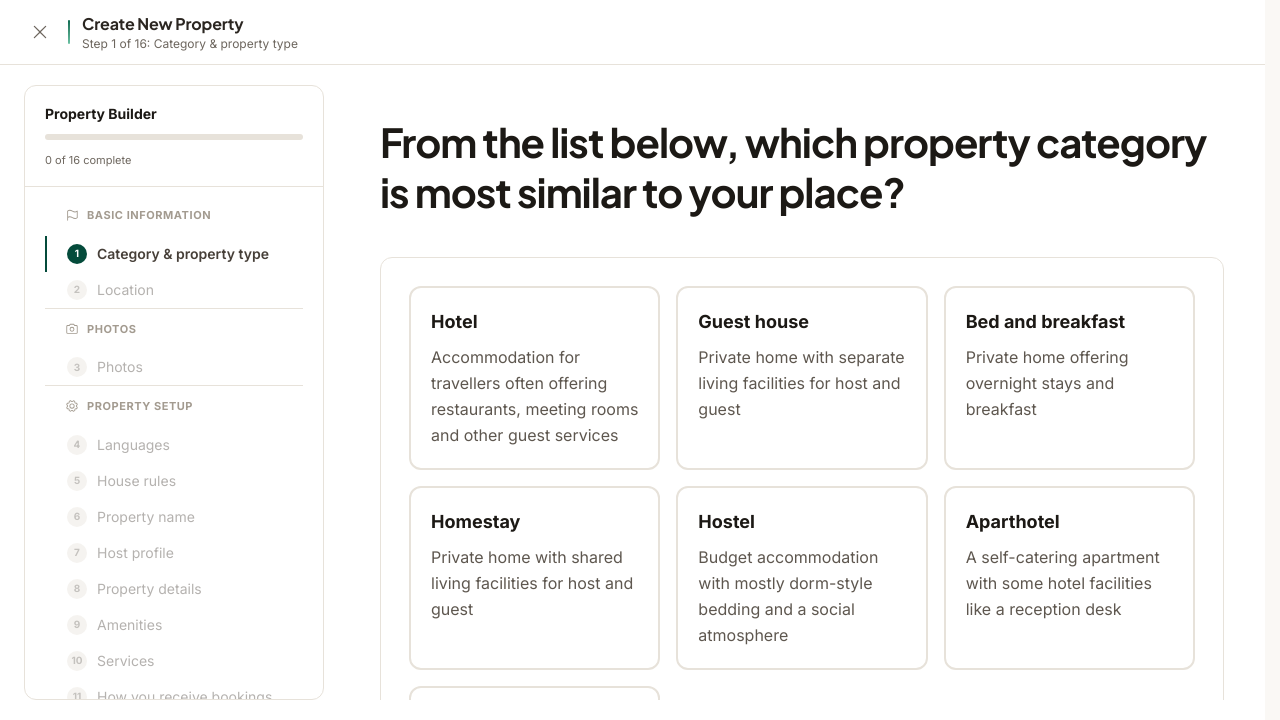
Test: PropertyHotelCategoryPage — the full category list › hands the chosen category to the how-many screen without creating a draft
Click the text "Hostel": (727, 522) [698,511,755,532]
(page scrolled)
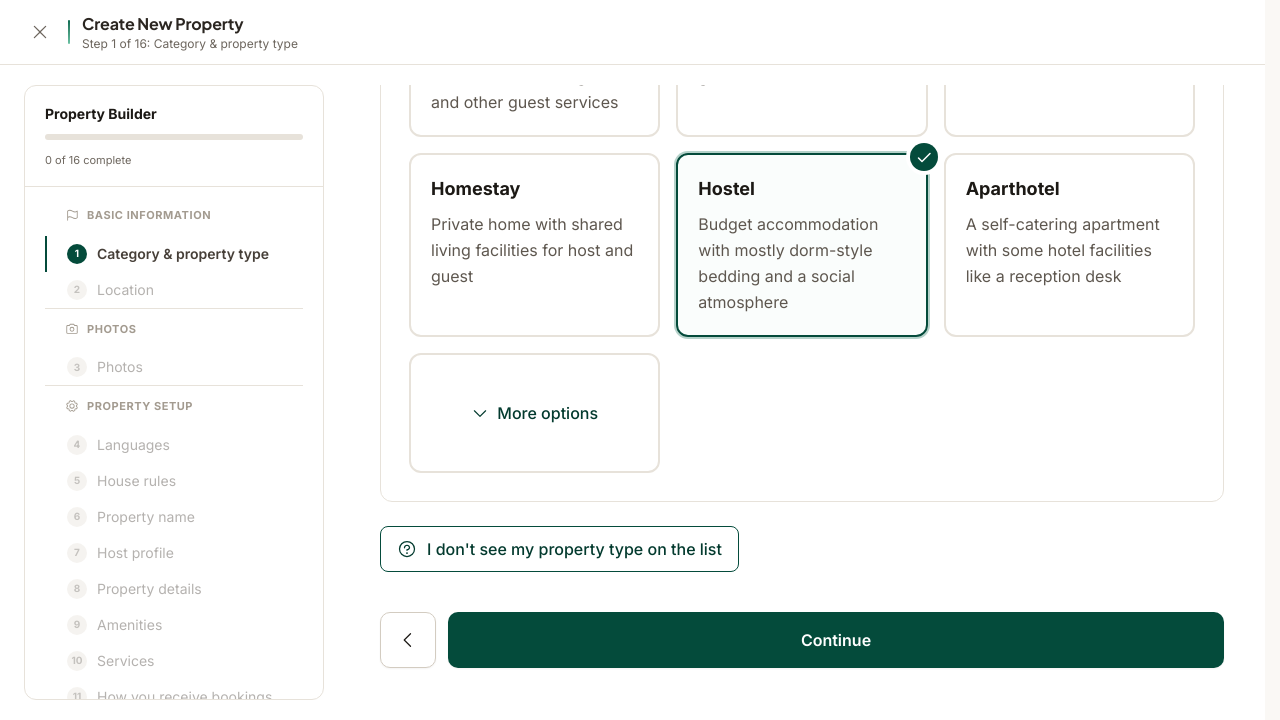
Click the button "Continue": (836, 640) [448,612,1224,668]
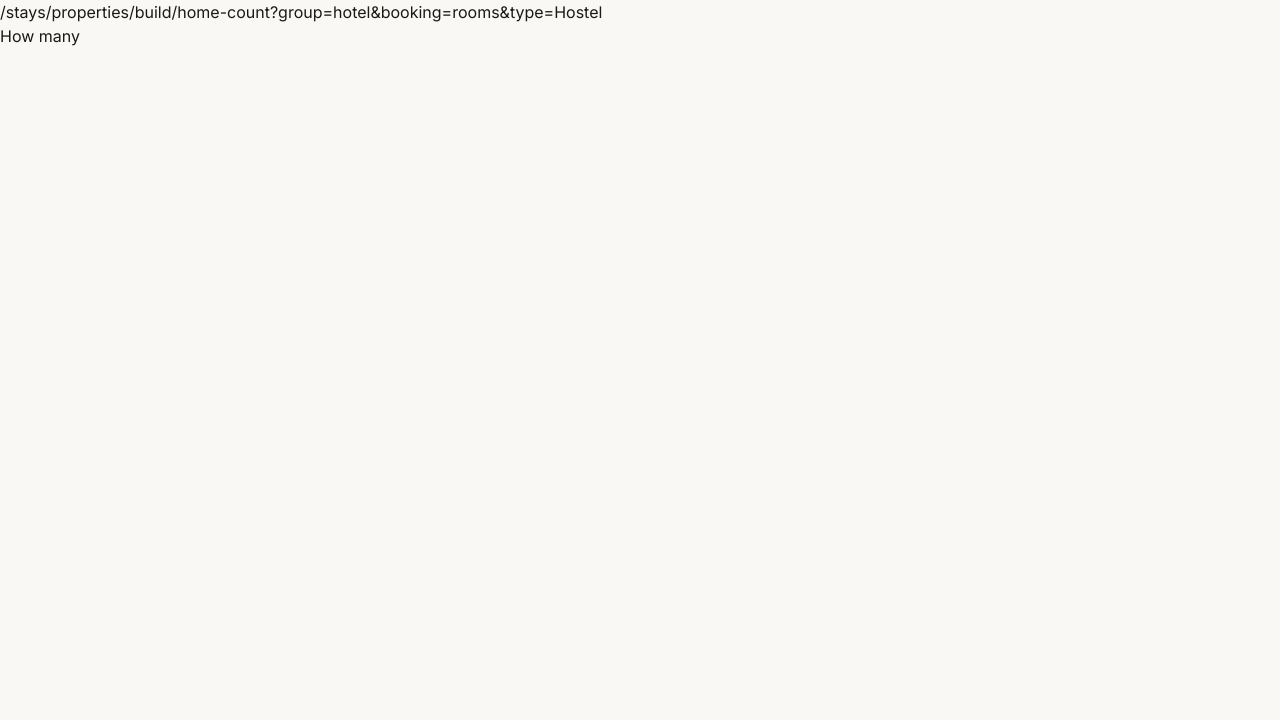
Now the text with test id "location" reads "/stays/properties/build/home-count?group=hotel&booking=rooms&type=Hostel", box [0,2,602,22]
